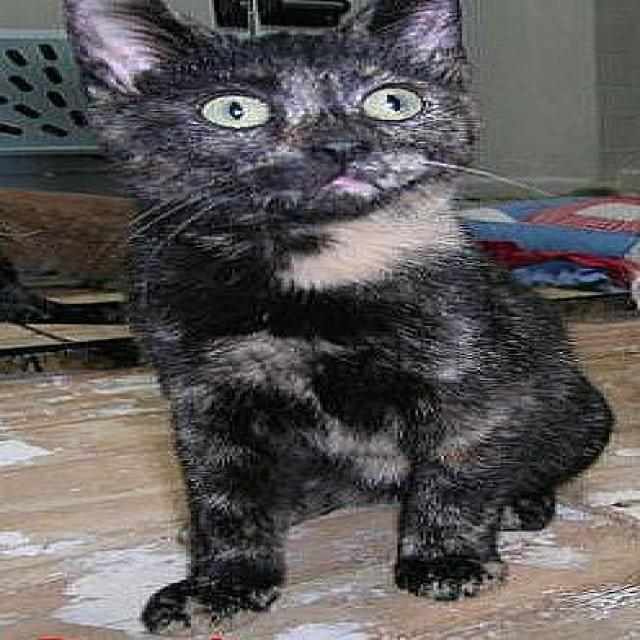cat: (62, 0, 614, 634)
